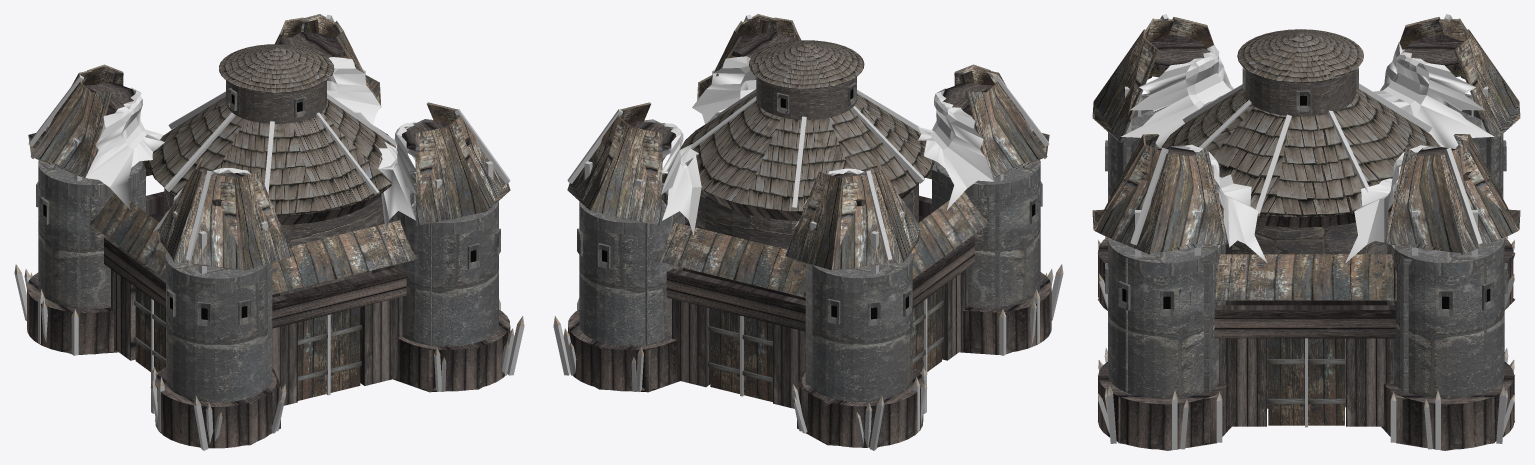
3 views of the same model, side by side, from view 1: azimuth 30°, elevation 25°; view 2: azimuth 150°, elevation 25°; view 3: azimuth 270°, elevation 25° (orthographic). The views are drawn at different scales.
Visible parts, largest first — view 1: Kostka.011; view 2: Kostka.011; view 3: Kostka.011.
Part boxes in pixels (bbox=[...]): Kostka.011: bbox=[14, 14, 524, 450]; Kostka.011: bbox=[553, 14, 1063, 450]; Kostka.011: bbox=[1092, 14, 1520, 450].
Size of the model in its own units: 7723 by 6441 by 7568.
